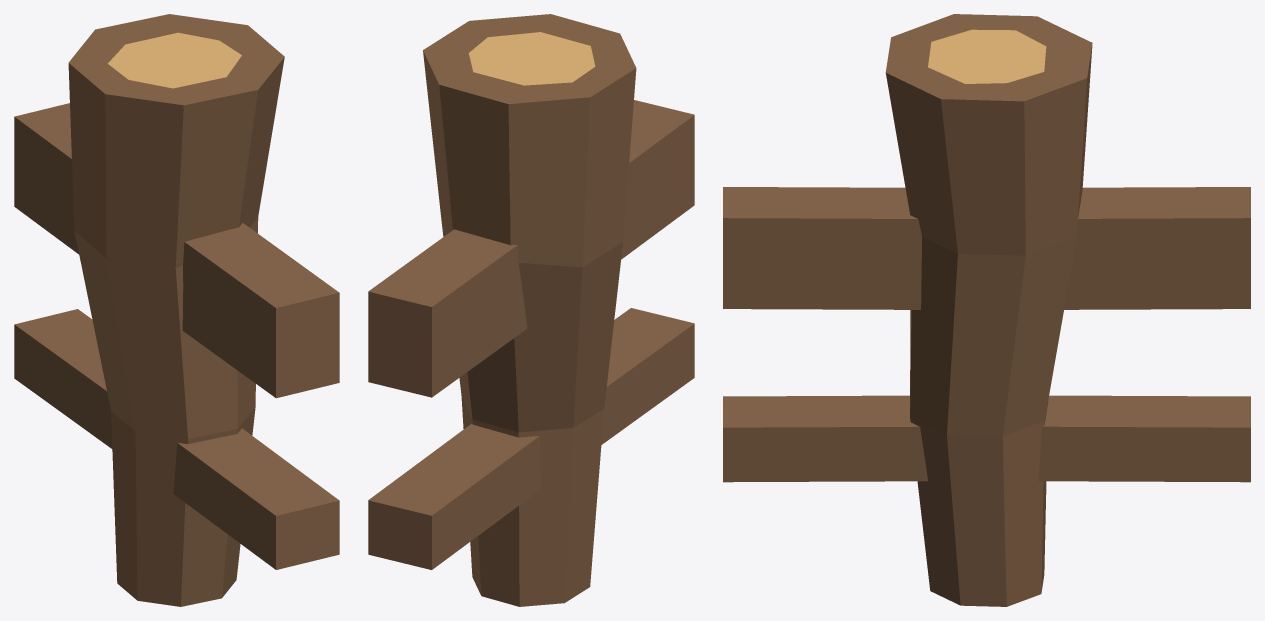
File: Fence1.fbx
3 renders of one model, left to right at view 1: azimuth 30°, elevation 25°; view 2: azimuth 150°, elevation 25°; view 3: azimuth 270°, elevation 25°, orthographic.
Visible parts, largest first — view 1: Plane.198, Plane.199, Plane.200; view 2: Plane.198, Plane.199, Plane.200; view 3: Plane.198, Plane.199, Plane.200.
Boxes of the visible parts, x1=… form: Plane.198: x1=68, y1=14, x2=284, y2=606; Plane.199: x1=14, y1=103, x2=339, y2=398; Plane.200: x1=14, y1=309, x2=339, y2=569; Plane.198: x1=423, y1=14, x2=636, y2=606; Plane.199: x1=368, y1=100, x2=694, y2=397; Plane.200: x1=368, y1=308, x2=694, y2=569; Plane.198: x1=885, y1=14, x2=1092, y2=606; Plane.199: x1=723, y1=187, x2=1250, y2=309; Plane.200: x1=723, y1=395, x2=1250, y2=482.
Size of the model in its own units: 0.3919 by 1 by 1.1.
